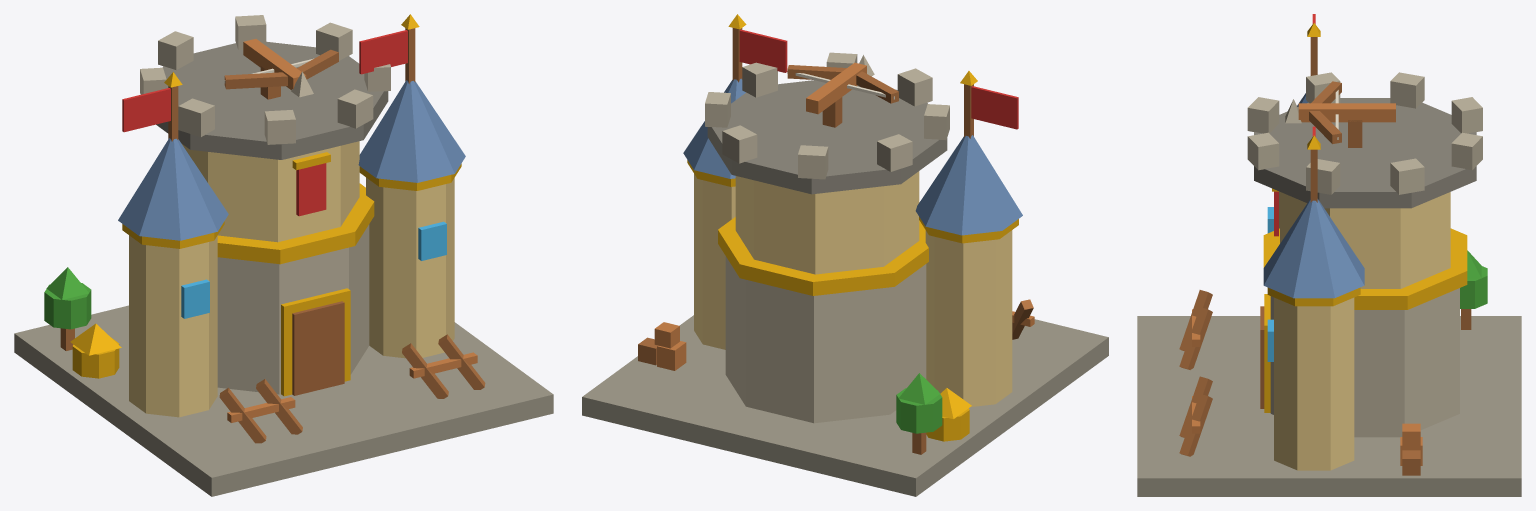
File: defense_tower_t3_v2.glb
The picture shows the model from 3 angles, left to right: view 1: azimuth 30°, elevation 25°; view 2: azimuth 150°, elevation 25°; view 3: azimuth 270°, elevation 25°; orthographic projection. The views are drawn at different scales.
Visible parts, largest first — view 1: defense_tower_t3_v2; view 2: defense_tower_t3_v2; view 3: defense_tower_t3_v2.
Part boxes in pixels (left/top/right/bottom): defense_tower_t3_v2: left=14, top=14, right=553, bottom=496; defense_tower_t3_v2: left=582, top=14, right=1108, bottom=496; defense_tower_t3_v2: left=1137, top=14, right=1521, bottom=496.
Bounding box in the file's own units: 0.75 × 0.725 × 0.75.
1 material, 1 textured.
